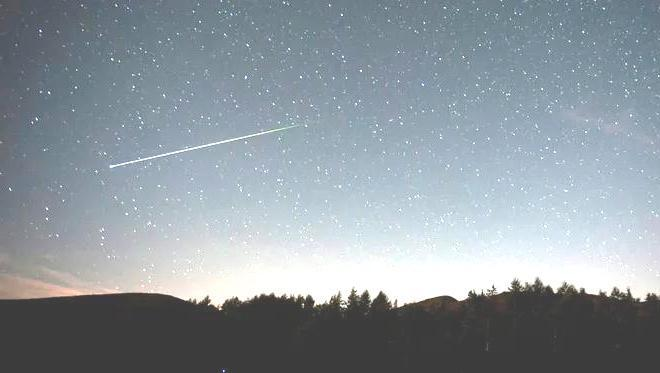meteorite: (103, 116, 315, 171)
